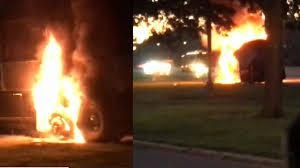fire: (31, 32, 85, 139), (207, 9, 268, 86)
